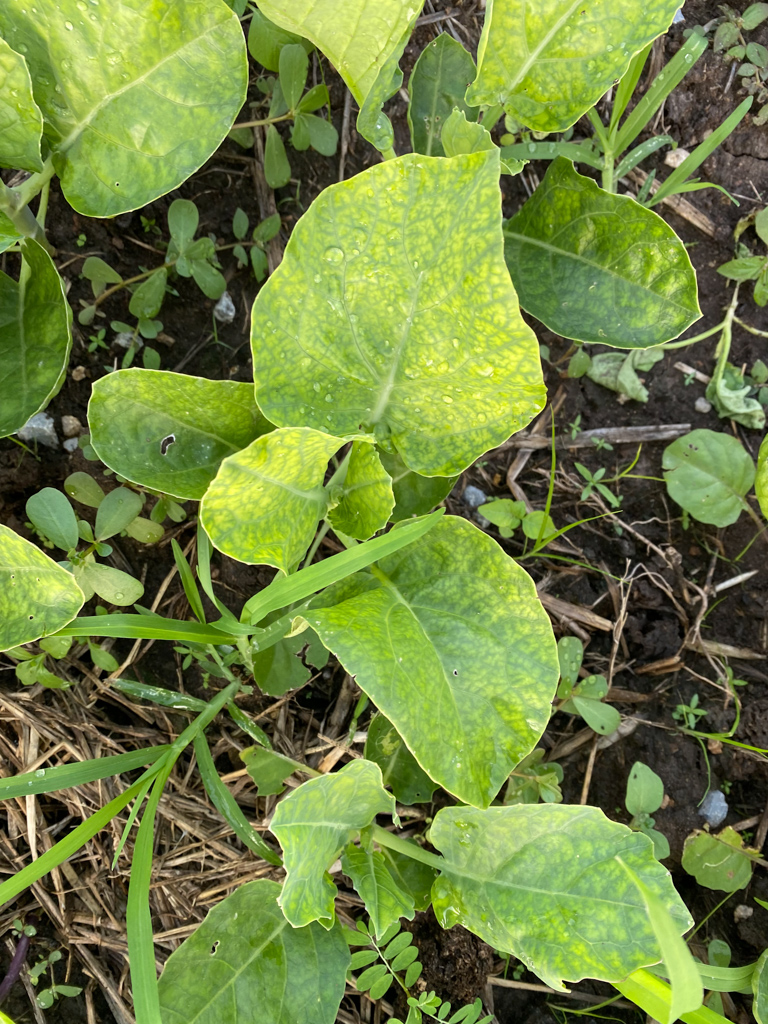Pepper yellow leaf: (430, 167, 556, 485), (199, 428, 310, 566)
